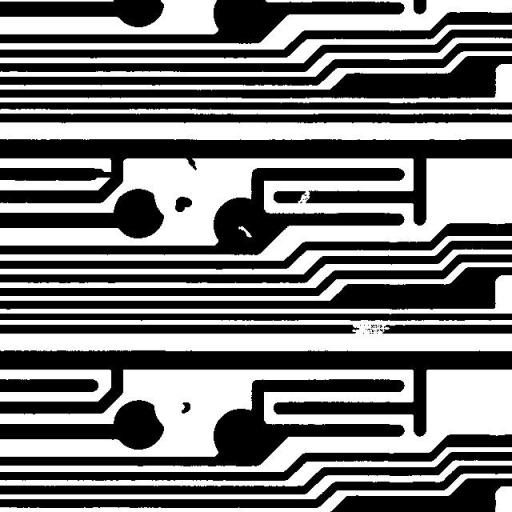copper: (167, 189, 199, 219), (174, 394, 198, 421)
open: (344, 315, 397, 342), (290, 181, 316, 211)
pin-hole: (230, 218, 260, 245)
short: (86, 161, 120, 185)
spur: (178, 146, 204, 178)
